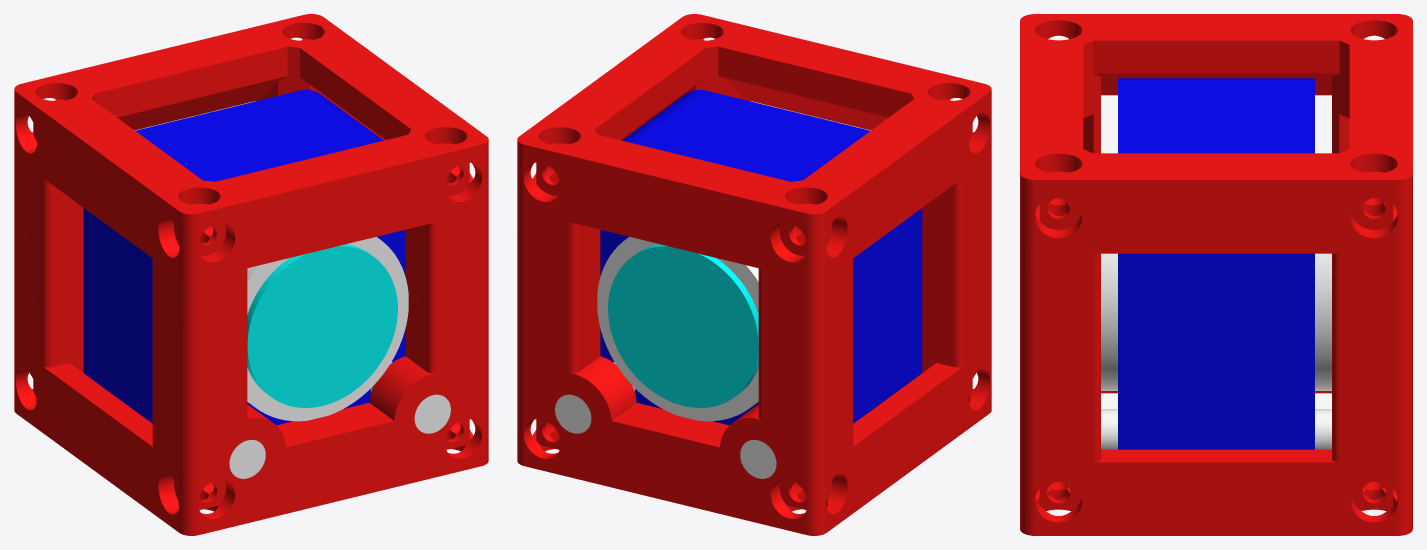
The model's file is Base Cube 1x1 (Camera).fbx.
3 renders of one model, left to right at view 1: azimuth 30°, elevation 25°; view 2: azimuth 150°, elevation 25°; view 3: azimuth 270°, elevation 25°, orthographic. The views are drawn at different scales.
Parts seen in each view (by area): view 1: Base Cube 1x1 (Camera); view 2: Base Cube 1x1 (Camera); view 3: Base Cube 1x1 (Camera).
Boxes of the visible parts, box(x1,y1,x2,y2) form: Base Cube 1x1 (Camera): box(14, 14, 488, 535); Base Cube 1x1 (Camera): box(517, 14, 991, 535); Base Cube 1x1 (Camera): box(1020, 14, 1412, 535).
Bounding box in the file's own units: 4.98 × 4.98 × 4.98.
